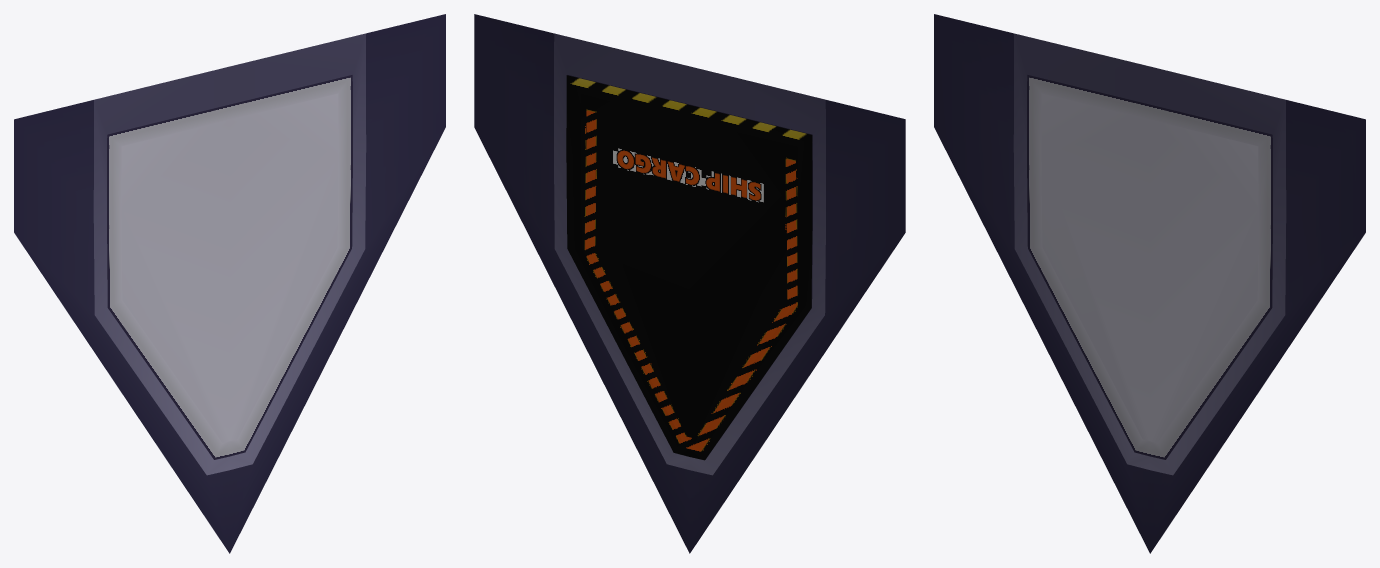
The model's file is floor_Triangle.fbx.
3 renders of one model, left to right at view 1: azimuth 30°, elevation 25°; view 2: azimuth 150°, elevation 25°; view 3: azimuth 330°, elevation 25°, orthographic.
Visible parts, largest first — view 1: floor tri; view 2: floor tri; view 3: floor tri.
Boxes of the visible parts, box(x1,y1,x2,y2) form: floor tri: box(14, 14, 445, 553); floor tri: box(474, 14, 905, 553); floor tri: box(934, 14, 1365, 553).
Bounding box in the file's own units: 5.59 × 6.03 × 0.0158.
2 materials, 2 textured.
